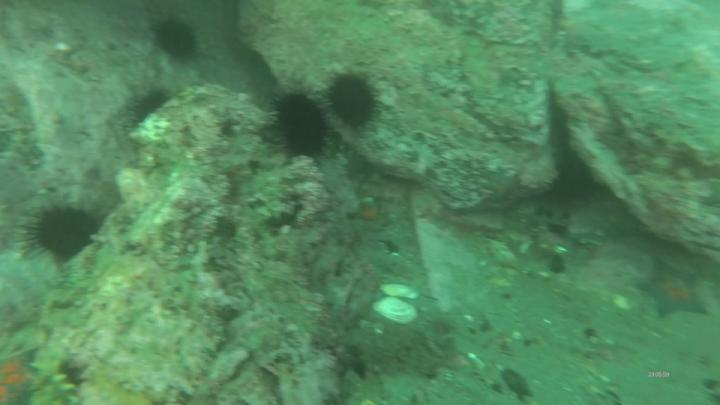echinus: (32, 202, 101, 263), (273, 93, 333, 163), (328, 73, 380, 130), (153, 18, 198, 62), (136, 89, 170, 124)
scallop: (374, 278, 427, 329)
starfish: (636, 254, 712, 324), (1, 346, 48, 405)
